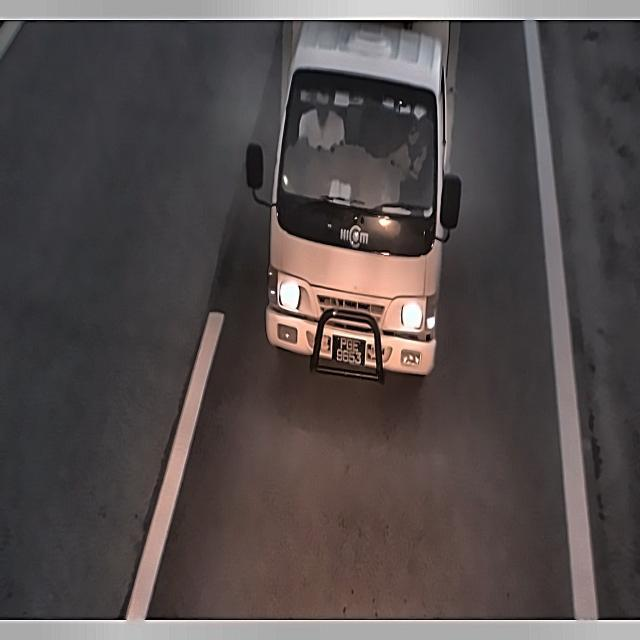car: (320, 330, 360, 368)
